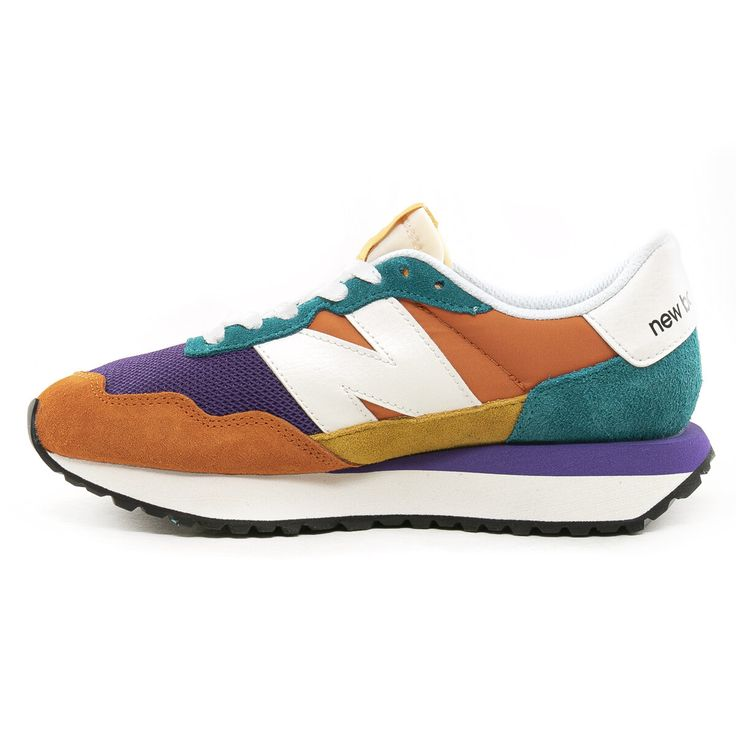gamuza: (34, 330, 700, 474)
